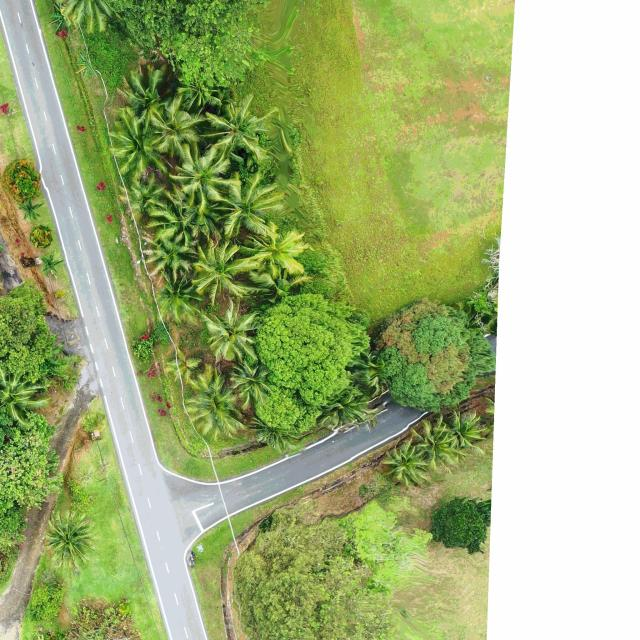Tree: (256, 292, 372, 408), (374, 298, 491, 413), (189, 223, 256, 305), (0, 420, 61, 510), (202, 96, 277, 169), (209, 170, 284, 237), (182, 366, 247, 439), (240, 220, 305, 284), (147, 94, 209, 160), (109, 108, 167, 177), (146, 184, 202, 248), (202, 301, 258, 361), (430, 496, 489, 552), (43, 510, 99, 568), (0, 366, 52, 428), (48, 0, 137, 35), (157, 267, 208, 325), (71, 597, 139, 640), (116, 66, 172, 118), (409, 419, 458, 471), (118, 171, 167, 222), (229, 358, 276, 408), (382, 441, 429, 488), (171, 72, 224, 111), (445, 408, 489, 452), (2, 158, 42, 203), (161, 345, 201, 388), (26, 582, 66, 620), (19, 196, 45, 221), (28, 225, 54, 249), (39, 250, 63, 274)
